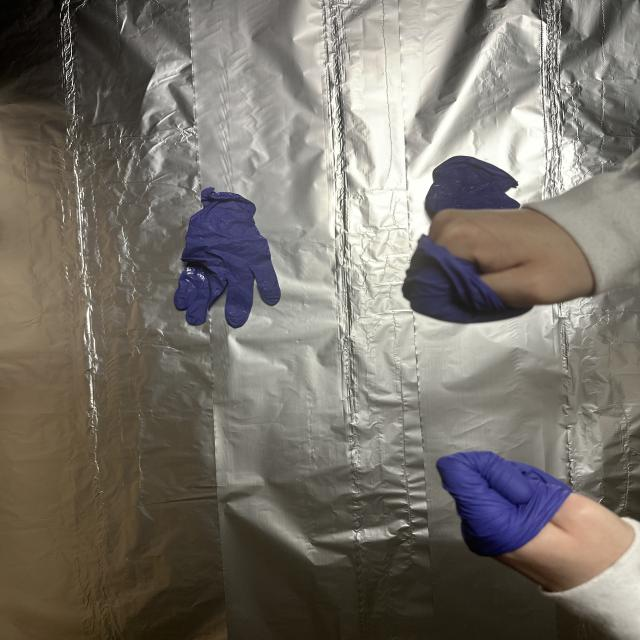glove_partial: (432, 447, 638, 598), (399, 202, 601, 326)
